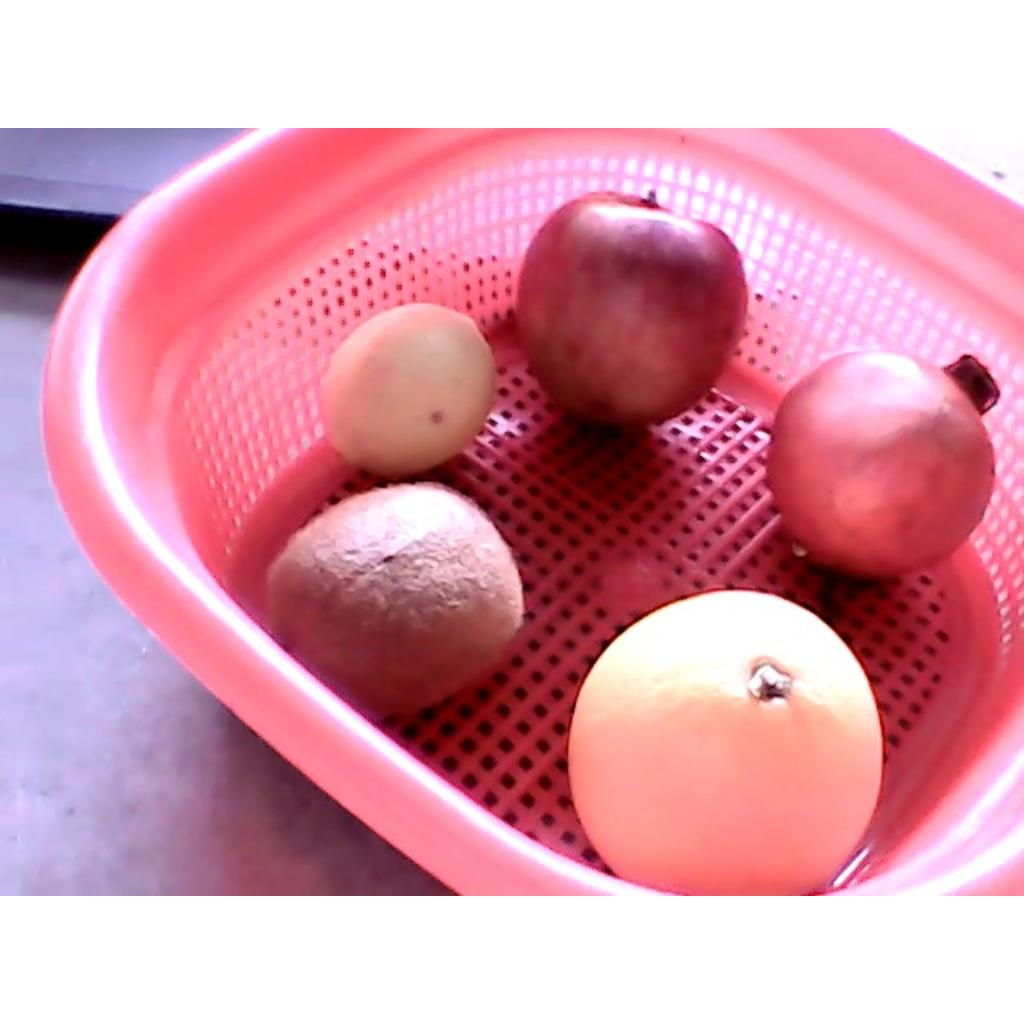apple: (516, 188, 747, 429)
kiwi: (264, 481, 524, 723)
lemon: (321, 304, 498, 479)
orange: (566, 591, 883, 894)
pomegranate: (765, 348, 1001, 578)
